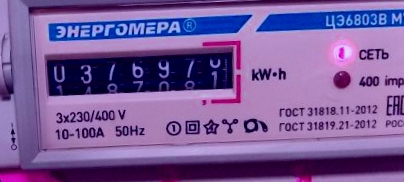0: (50, 60, 65, 83)
1: (208, 68, 220, 89)
3: (78, 62, 93, 84)
6: (129, 55, 145, 79)
7: (103, 58, 119, 83), (181, 55, 197, 79)
9: (155, 56, 170, 78)
screen: (35, 29, 248, 118)
